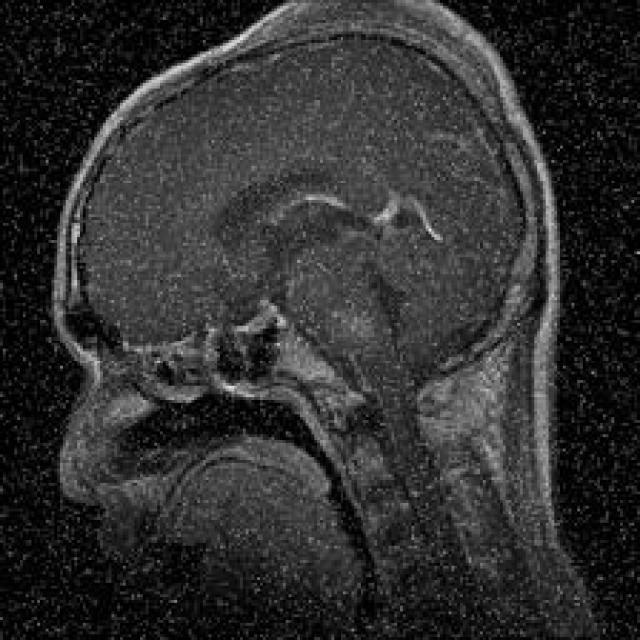glioma_tumor: (308, 286, 417, 380)
